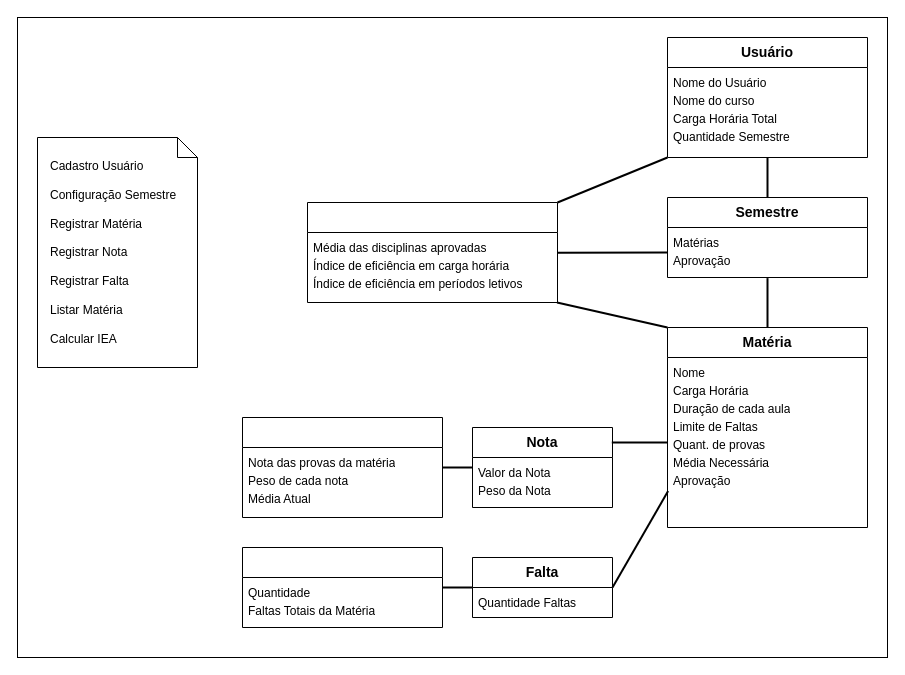
Image size: 905x675. Some labels were removed from this diagram. The shapes that lost their labels are listed below. From the top down, each one's box as (x1, y1, x2, y2) in pixels, then its label:
(306, 202, 558, 302): IEA
(242, 416, 442, 518): Média Atual do aluno
(242, 546, 442, 628): Faltas Restantes
